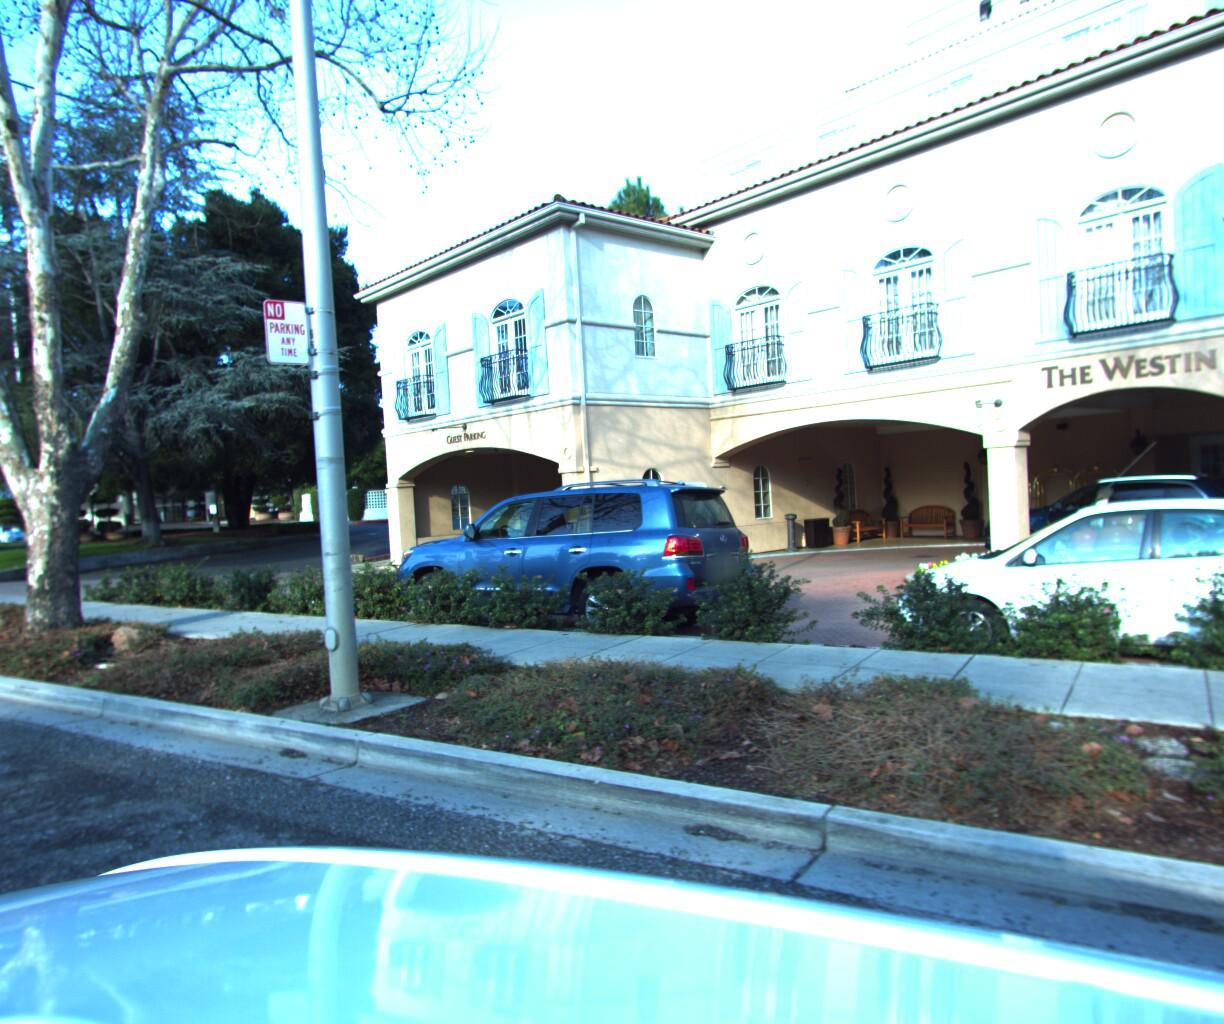car: (867, 476, 1224, 696), (369, 464, 769, 652), (960, 461, 1224, 567), (0, 511, 37, 545)
